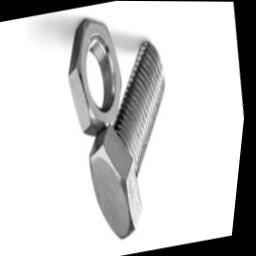Non-corroded Nut: (69, 18, 124, 136)
Non-corroded-Bolts: (93, 40, 167, 239)
